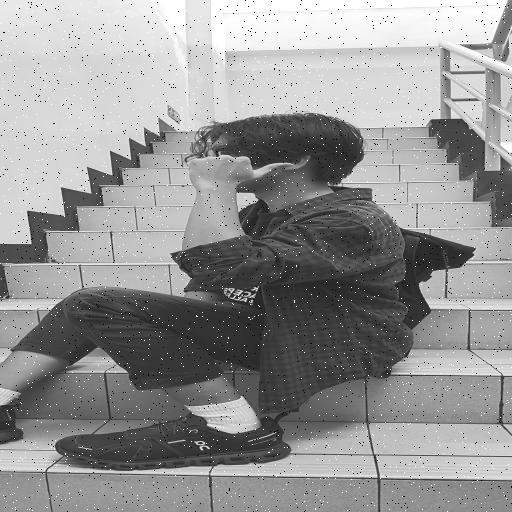back: (154, 147, 308, 195)
